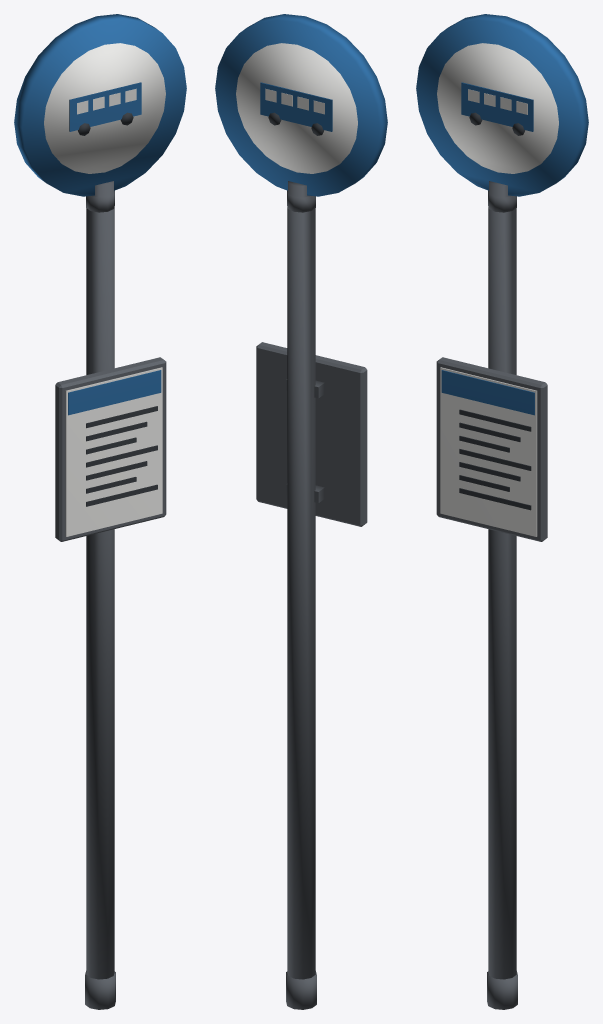
Rendered from busSign.glb.
The picture shows the model from 3 angles, left to right: view 1: azimuth 30°, elevation 25°; view 2: azimuth 150°, elevation 25°; view 3: azimuth 330°, elevation 25°; orthographic projection.
Parts seen in each view (by area): view 1: busSign; view 2: busSign; view 3: busSign.
Boxes of the visible parts, <box> form: busSign: <box>14,14,186,1009</box>; busSign: <box>215,14,387,1009</box>; busSign: <box>416,14,588,1009</box>.
Size of the model in its own units: 0.46 by 2.63 by 0.1085.
